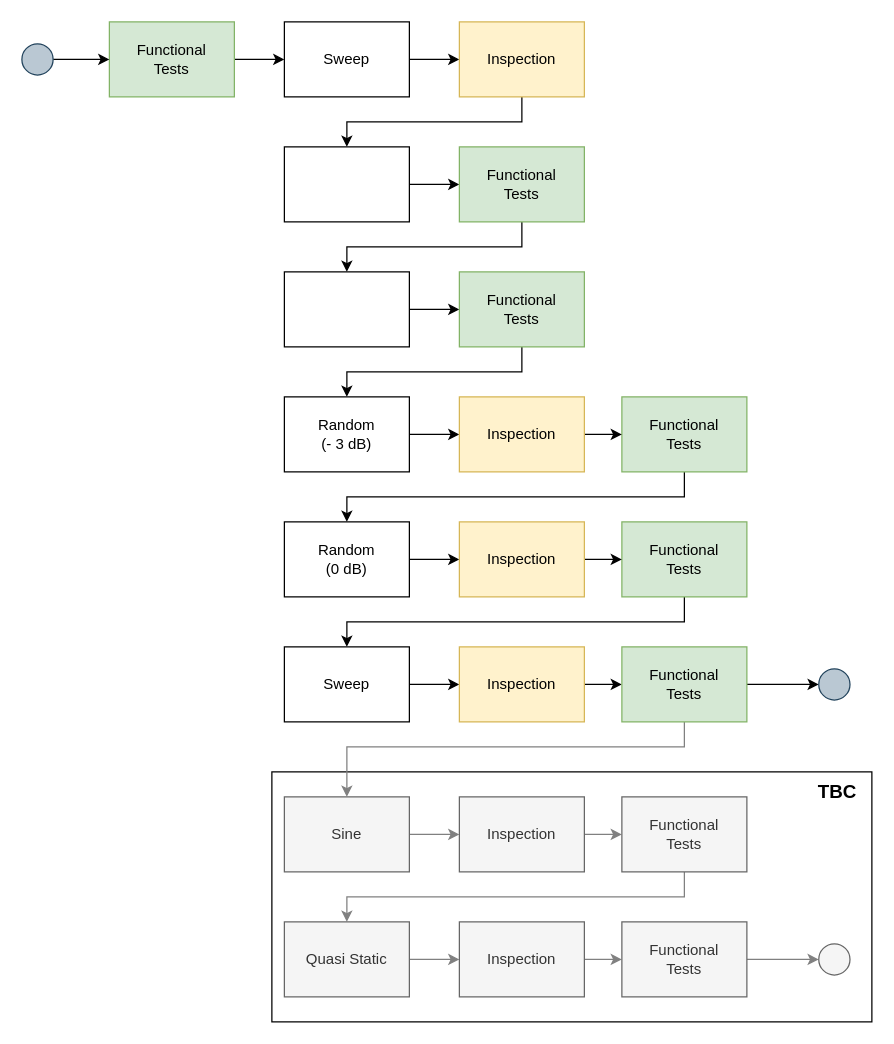
Image size: 894x1044. Some labels were removed from this diagram. The shapes that lost their labels are listed below. From the top down, each one's box as (x1, y1, x2, y2) in pixels, then its label:
(283, 146, 409, 222): Random (- 9 dB)
(283, 271, 409, 347): Random (- 6 dB)
